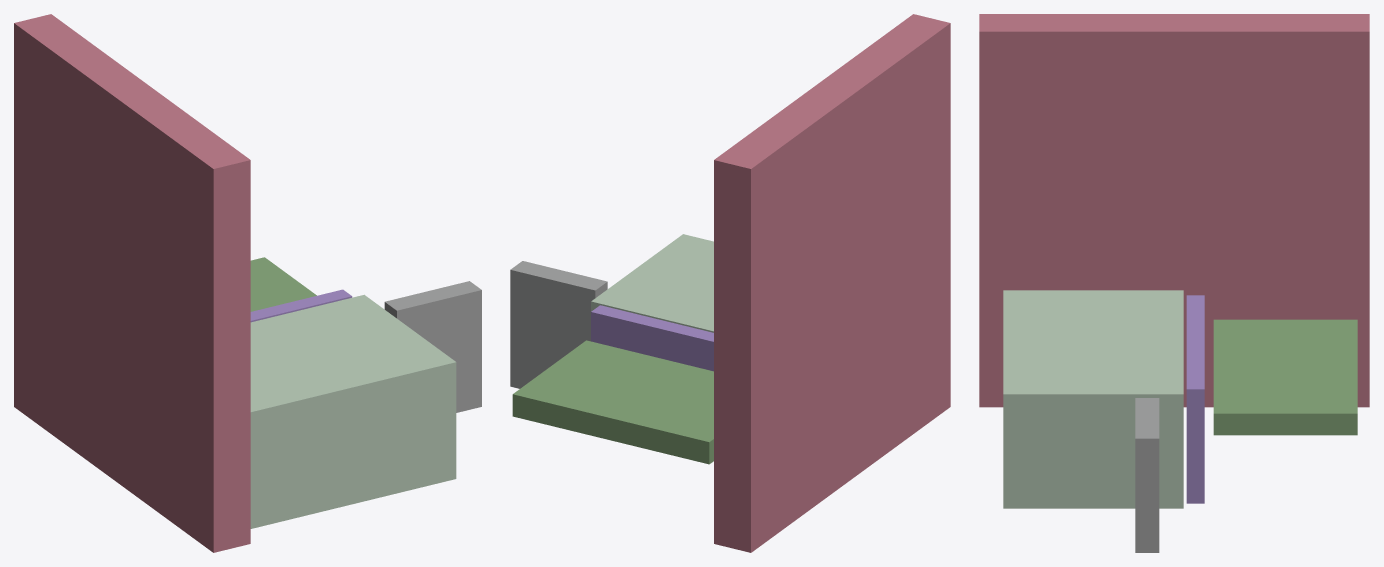
The model's file is 239542_pred.glb.
The picture shows the model from 3 angles, left to right: view 1: azimuth 30°, elevation 25°; view 2: azimuth 150°, elevation 25°; view 3: azimuth 270°, elevation 25°; orthographic projection. The views are drawn at different scales.
Visible parts, largest first — view 1: world; view 2: world; view 3: world.
Boxes of the visible parts, box(x1,y1,x2,y2) form: world: box(14, 14, 481, 552); world: box(510, 14, 950, 552); world: box(979, 14, 1369, 552).
Size of the model in its own units: 6.55 by 6.9 by 6.5.
